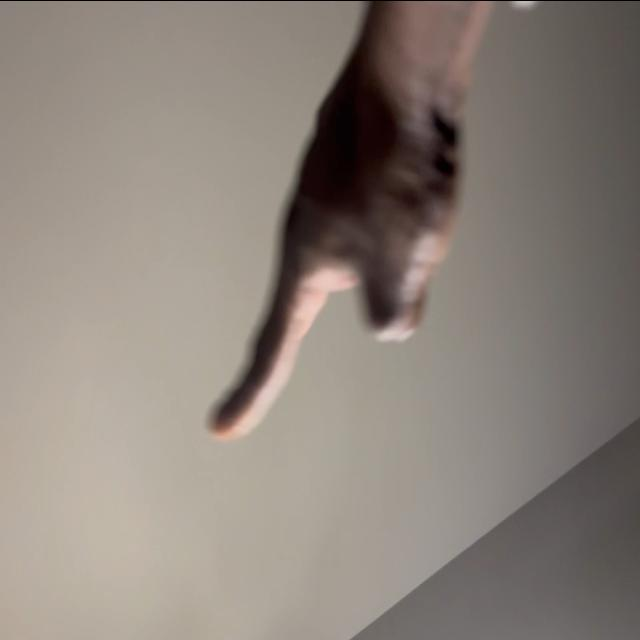Scissors: (206, 66, 467, 444)
